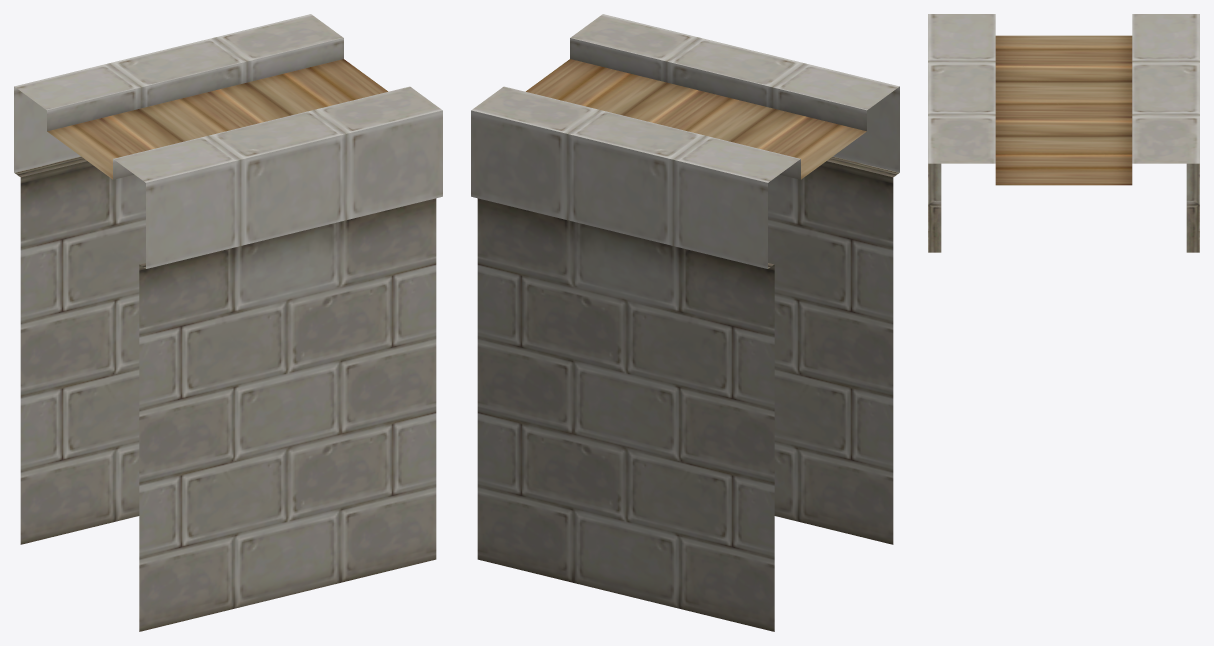
File: CastleWall01.FBX
The picture shows the model from 3 angles, left to right: view 1: azimuth 30°, elevation 25°; view 2: azimuth 150°, elevation 25°; view 3: azimuth 270°, elevation 25°; orthographic projection. The views are drawn at different scales.
Parts seen in each view (by area): view 1: CastleWall01; view 2: CastleWall01; view 3: CastleWall01.
Part boxes in pixels (x1,y1,x2,y2): CastleWall01: (14,14,442,631); CastleWall01: (471,14,899,631); CastleWall01: (928,14,1199,252).
Bounding box in the file's own units: 276 × 402 × 212.
